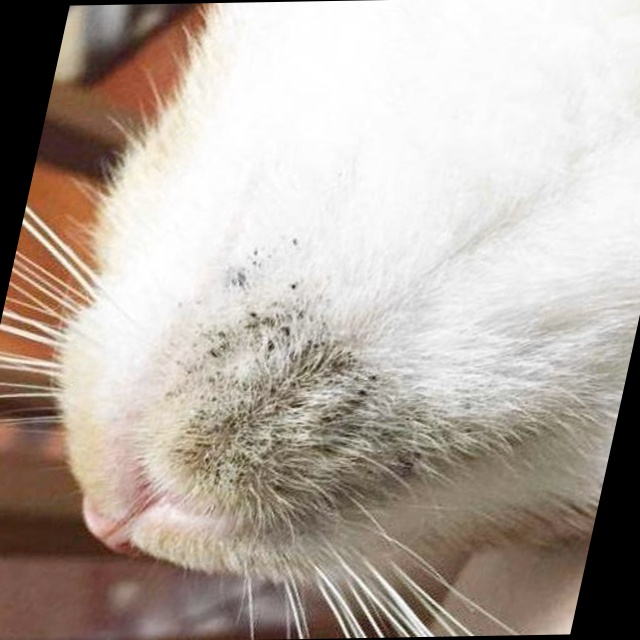acne: (135, 265, 466, 536)
